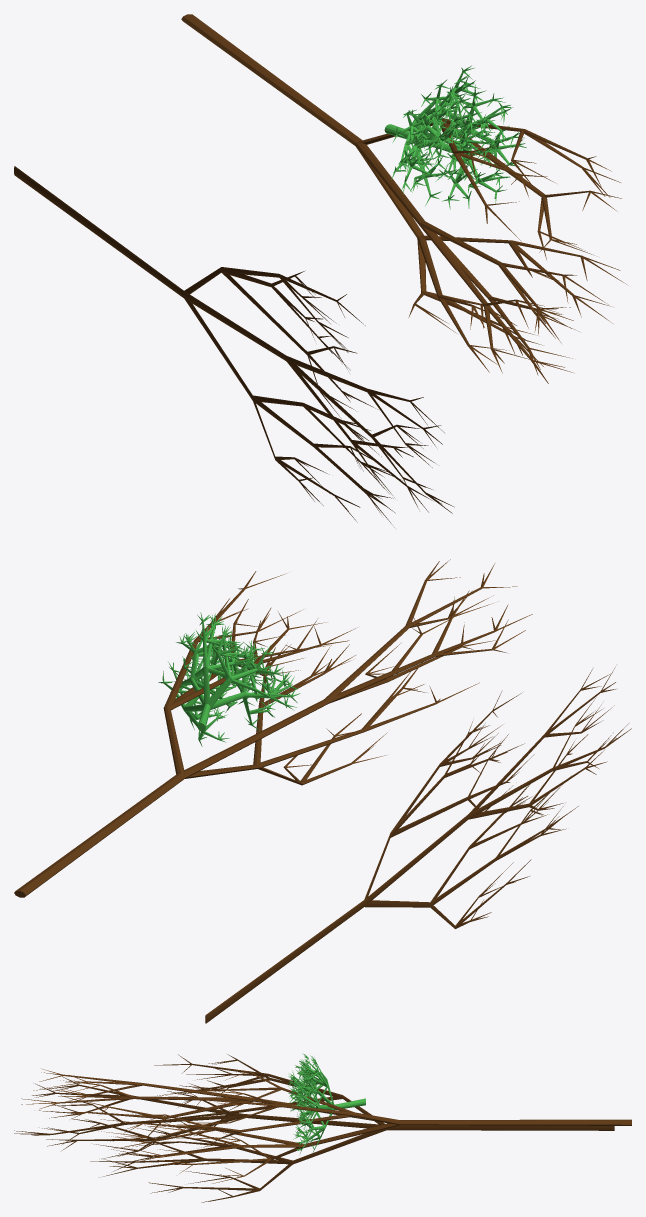
The model's file is tinker.obj.
3 views of the same model, one above another, from view 1: azimuth 30°, elevation 25°; view 2: azimuth 150°, elevation 25°; view 3: azimuth 270°, elevation 25° (orthographic). The views are drawn at different scales.
Visible parts, largest first — view 1: group_0_6306067, group_0_4634441; view 2: group_0_6306067, group_0_4634441; view 3: group_0_6306067, group_0_4634441.
Boxes of the visible parts, x1,y1,x2,y2 form: group_0_6306067: [14, 14, 626, 527]; group_0_4634441: [384, 65, 526, 209]; group_0_6306067: [14, 559, 631, 1023]; group_0_4634441: [158, 612, 300, 746]; group_0_6306067: [14, 1054, 631, 1202]; group_0_4634441: [288, 1053, 365, 1153].
Bounding box in the file's own units: 67.7 × 69.77 × 179.
